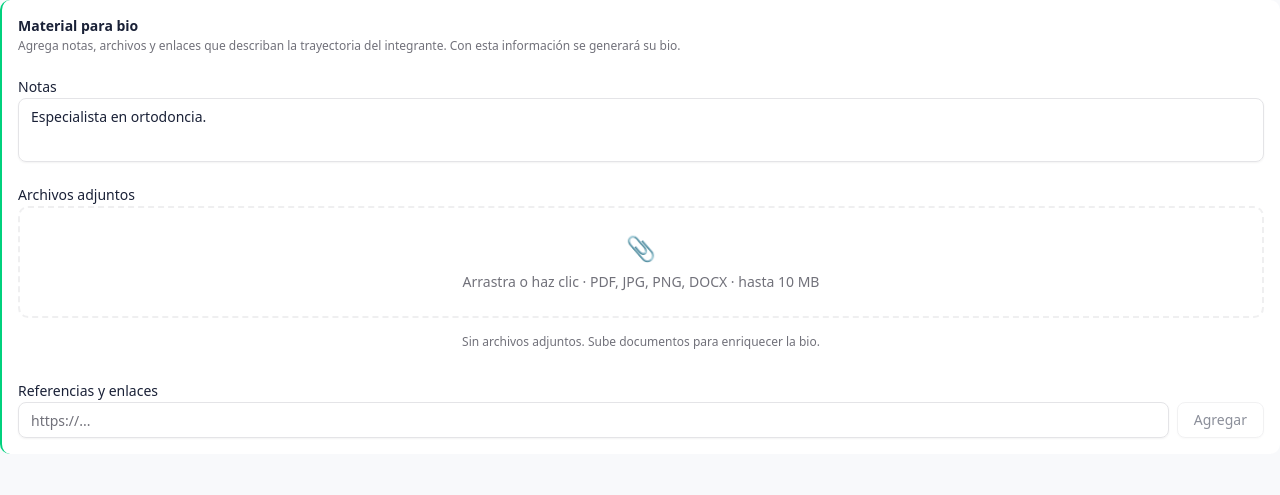
Test: BioRepoInputs › SC-D3B-3: invalid URL shows Zod validation error and does not add link
Type "not-a-url" into the field named "URL de referencia" at (593, 420), box [18,402,1169,438]
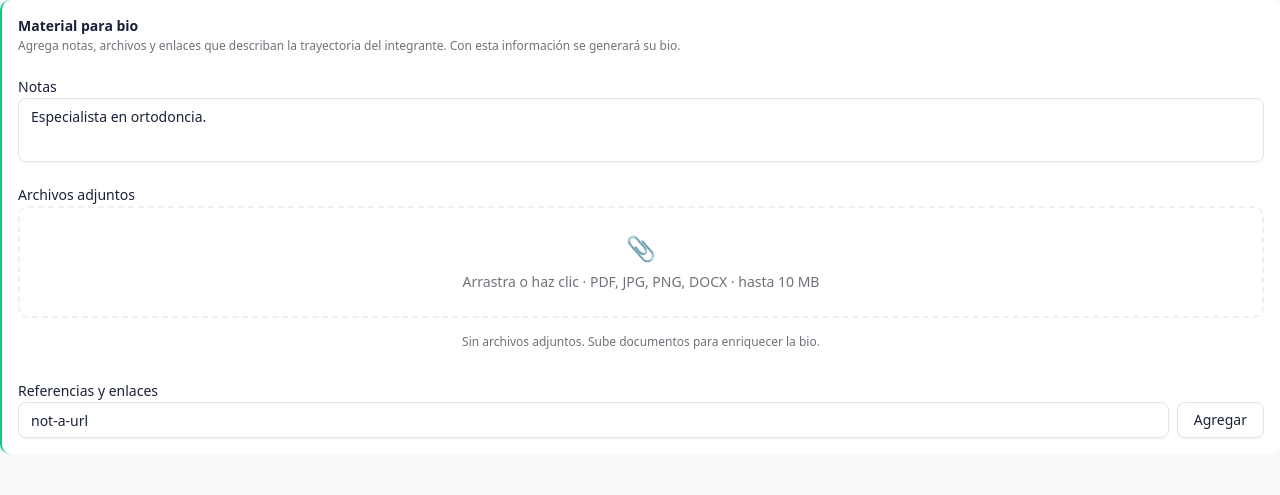
Click the button with aria-label "Agregar enlace" at (1220, 420), box [1177,402,1264,438]
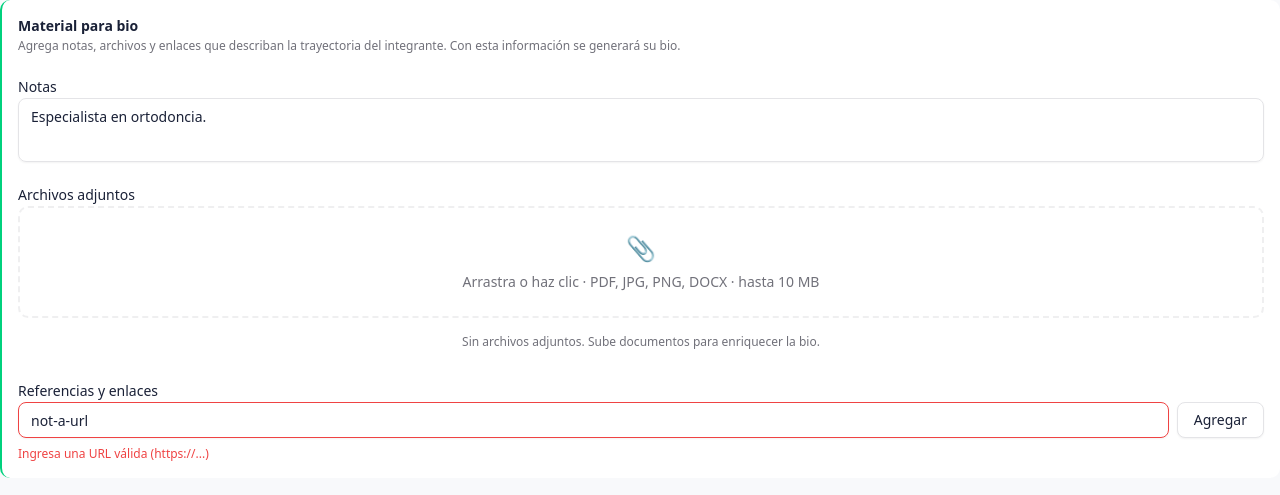
Now the text "Ingresa una URL válida (https://...)" is shown, box [18,445,209,462]
